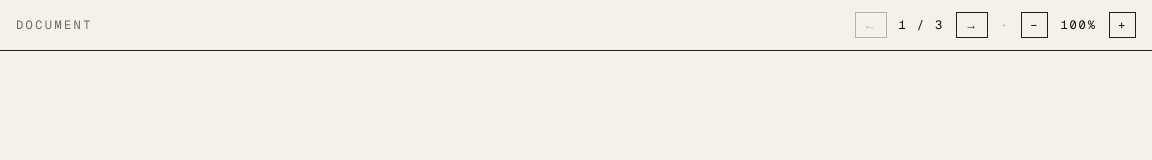
Test case: DocumentViewer — page navigation › next + previous buttons advance / retreat by one page
Check: the text with test id "page-indicator" reads "1 / 3", box [899,17,944,33]
Step 1. Click the button named "next page" → (972, 25), box [956,12,988,38]
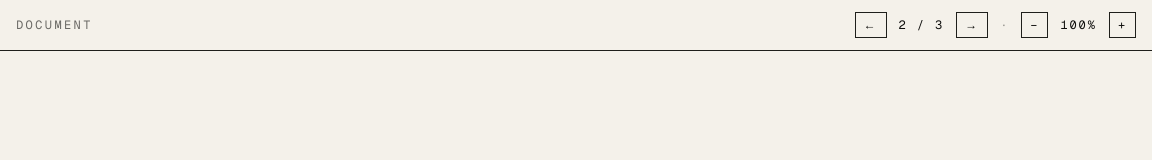
Check: the text with test id "page-indicator" reads "2 / 3", box [899,17,944,33]
Step 2. Click the button named "previous page" → (871, 25), box [855,12,887,38]
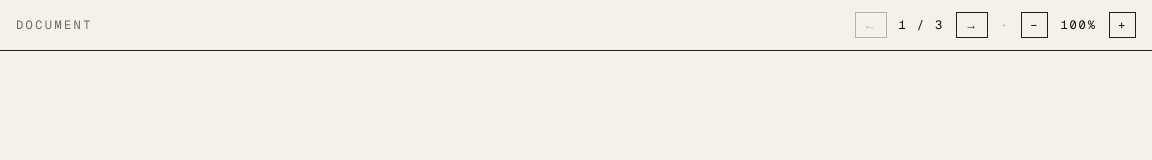
Check: the text with test id "page-indicator" reads "1 / 3", box [899,17,944,33]
